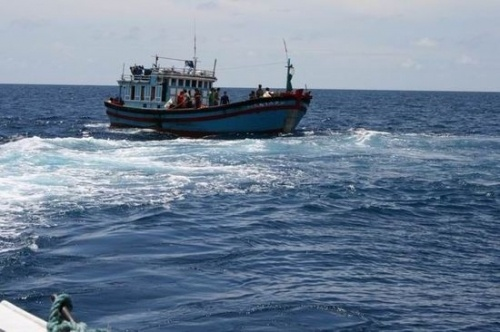otherboat: (103, 39, 312, 135)
